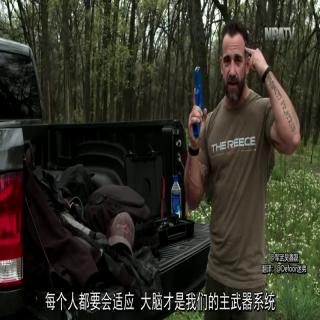gun: (184, 62, 210, 157)
